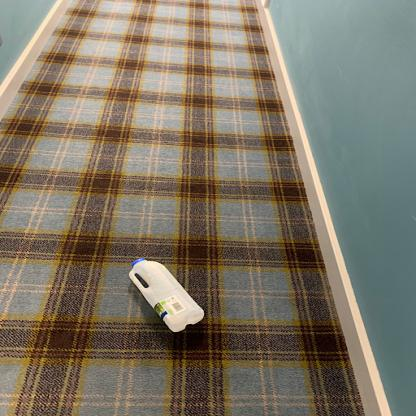trash: (128, 255, 210, 336)
